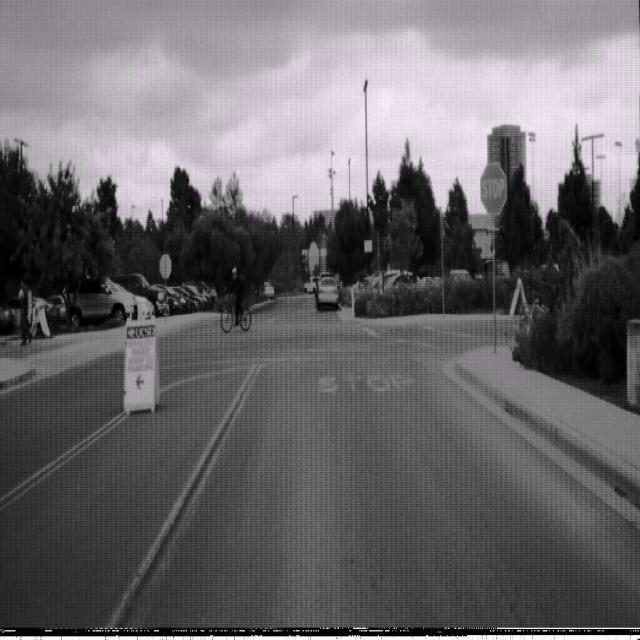stop_sign: (479, 160, 507, 216)
